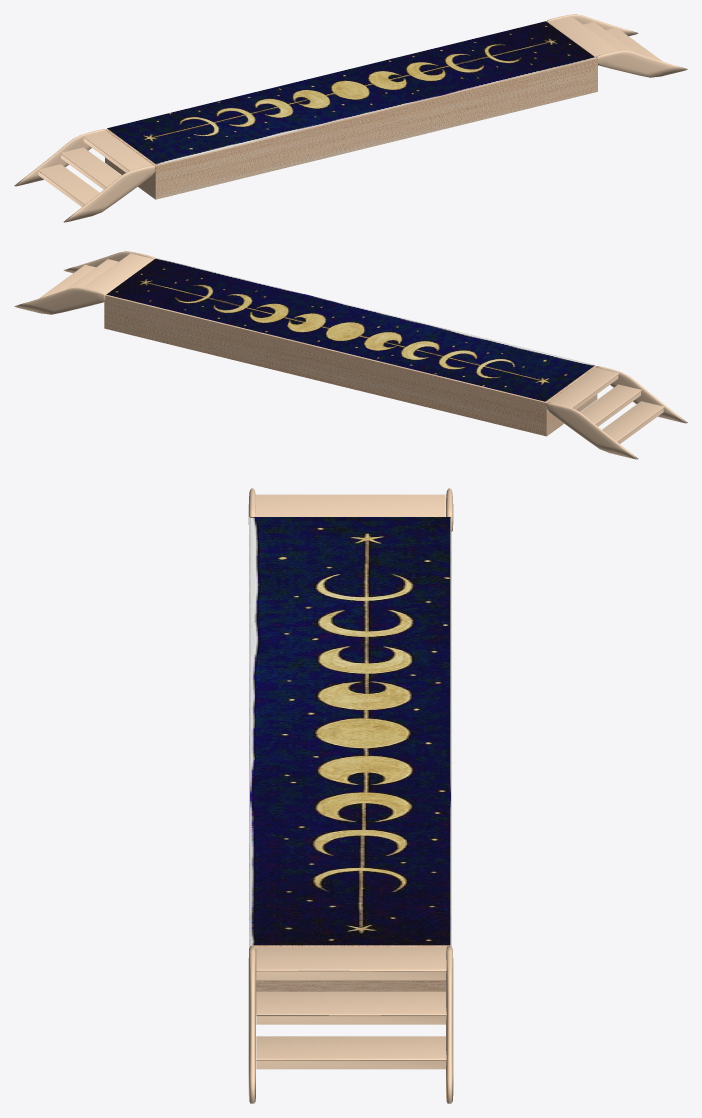
File: Dueling Table.fbx
3 views of the same model, one above another, from view 1: azimuth 30°, elevation 25°; view 2: azimuth 150°, elevation 25°; view 3: azimuth 270°, elevation 25° (orthographic). The views are drawn at different scales.
Visible parts, largest first — view 1: Dueling_Table; view 2: Dueling_Table; view 3: Dueling_Table.
Boxes of the visible parts, x1=… form: Dueling_Table: x1=14, y1=14, x2=687, y2=222; Dueling_Table: x1=14, y1=251, x2=687, y2=459; Dueling_Table: x1=248, y1=488, x2=453, y2=1103.
Bounding box in the file's own units: 52.18 × 2.87 × 7.41.
